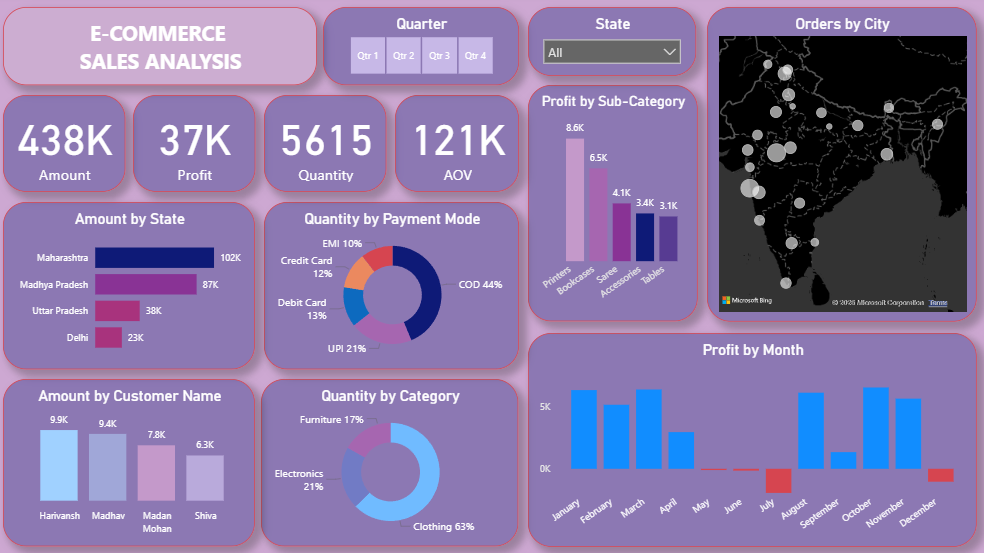

This screenshot's page, from the dashboard's own definition file:
{"tool":"powerbi","page":{"name":"Page 1","canvas":[1280,720],"ordinal":0},"visuals":[{"type":"textbox","box":[9.9,14.2,404.7,100.8],"z":0},{"type":"columnChart","fields":{"Y":["Sum(Details.Profit)"],"Category":["Orders.Order Date.Variation.Date Hierarchy.Month"]},"box":[687.3,434.6,579.4,275.5],"z":1000},{"type":"columnChart","fields":{"Category":["Details.Sub-Category"],"Y":["Sum(Details.Profit)"]},"box":[687.3,115,218.7,305.3],"z":2000},{"type":"donutChart","fields":{"Category":["Details.Category"],"Y":["Sum(Details.Quantity)"]},"box":[343.7,494.2,332.3,215.9],"z":3000},{"type":"pieChart","fields":{"Y":["Sum(Details.Quantity)"],"Category":["Details.PaymentMode"]},"box":[346.5,265.6,329.5,215.9],"z":4000},{"type":"card","fields":{"Values":["Sum(Details.Amount)"]},"box":[9.9,127.8,157.6,125],"z":5000},{"type":"card","fields":{"Values":["Sum(Details.Profit)"]},"box":[178.5,127.8,157.6,125],"z":6000},{"type":"card","fields":{"Values":["Sum(Details.Quantity)"]},"box":[347,127.8,157.6,125],"z":7000},{"type":"card","fields":{"Values":["Sum(Details.AOV)"]},"box":[515.5,127.8,160.5,125],"z":8000},{"type":"barChart","fields":{"Category":["Orders.State"],"Y":["Sum(Details.Amount)"]},"box":[9.9,265.6,325.2,215.9],"z":9000},{"type":"columnChart","fields":{"Category":["Orders.Customer Name"],"Y":["Sum(Details.Amount)"]},"box":[10,494.2,325,216],"z":10000},{"type":"slicer","title":"Quarter","fields":{"Values":["Orders.Order Date.Variation.Date Hierarchy.Quarter"]},"box":[423.2,14.2,252.8,100.8],"z":11000},{"type":"slicer","title":"State","fields":{"Values":["Orders.State"]},"box":[687.3,14.2,217.3,89.5],"z":12000},{"type":"map","title":"Orders by City","fields":{"Category":["Orders.City"],"Size":["CountNonNull(Orders.Order ID)"]},"box":[918.8,14.2,347.9,406.2],"z":13000}]}

Visuals, with their boxes in screenshot pixels (x1, y1, x2, y2), scaled from the page's 1280x720 canvas onto the 984x553 screenshot:
textbox: box=[8, 11, 319, 88]
columnChart - Sum(Details.Profit) x Orders.Order Date.Variation.Date Hierarchy.Month: box=[528, 334, 974, 545]
columnChart - Details.Sub-Category x Sum(Details.Profit): box=[528, 88, 696, 323]
donutChart - Details.Category x Sum(Details.Quantity): box=[264, 380, 520, 545]
pieChart - Sum(Details.Quantity) x Details.PaymentMode: box=[266, 204, 520, 370]
card - Sum(Details.Amount): box=[8, 98, 129, 194]
card - Sum(Details.Profit): box=[137, 98, 258, 194]
card - Sum(Details.Quantity): box=[267, 98, 388, 194]
card - Sum(Details.AOV): box=[396, 98, 520, 194]
barChart - Orders.State x Sum(Details.Amount): box=[8, 204, 258, 370]
columnChart - Orders.Customer Name x Sum(Details.Amount): box=[8, 380, 258, 545]
"Quarter" slicer: box=[325, 11, 520, 88]
"State" slicer: box=[528, 11, 695, 80]
"Orders by City" map: box=[706, 11, 974, 323]
